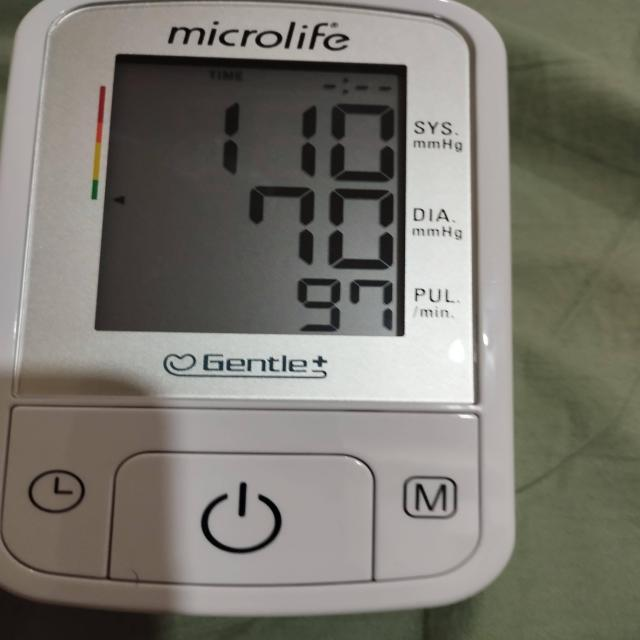bp: (0, 0, 517, 640)
